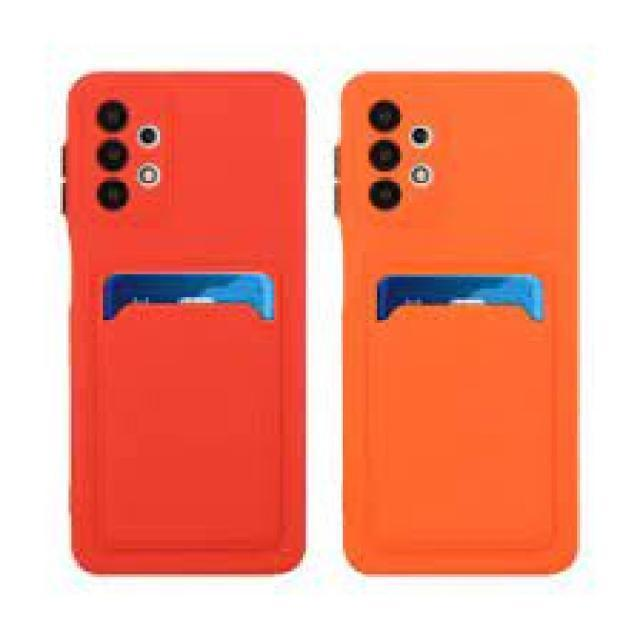lens: (86, 95, 176, 216), (361, 97, 443, 223)
phone: (64, 63, 316, 577), (337, 63, 584, 582)
